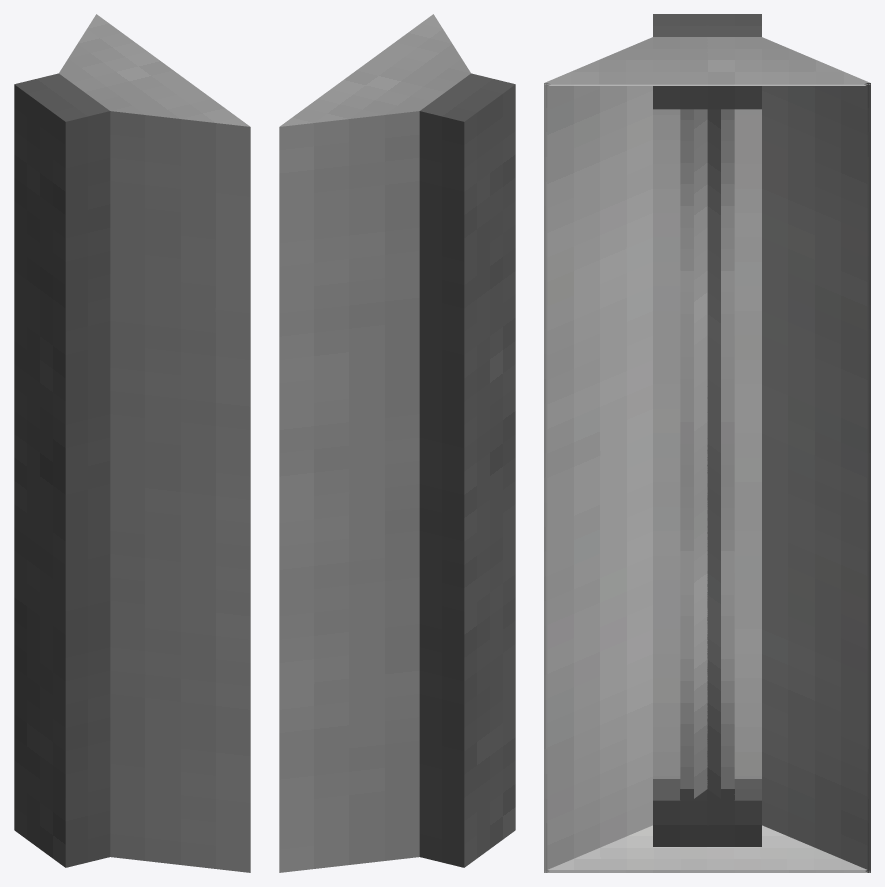
The model's file is FluorescentLamp.obj.
3 views of the same model, side by side, from view 1: azimuth 30°, elevation 25°; view 2: azimuth 150°, elevation 25°; view 3: azimuth 270°, elevation 25° (orthographic). The views are drawn at different scales.
Visible parts, largest first — view 1: socket_unlightable; view 2: socket_unlightable; view 3: socketLightable, lampOff, socket_unlightable.
Part boxes in pixels (box(x1,y1,x2,y2)): socket_unlightable: box(14, 14, 250, 872); socket_unlightable: box(279, 14, 515, 872); socketLightable: box(547, 84, 867, 869); lampOff: box(680, 109, 734, 798); socket_unlightable: box(544, 14, 870, 872).
Bounding box in the file's own units: 0.1875 × 1 × 0.375.
Materials: 1 (1 with a texture image).
